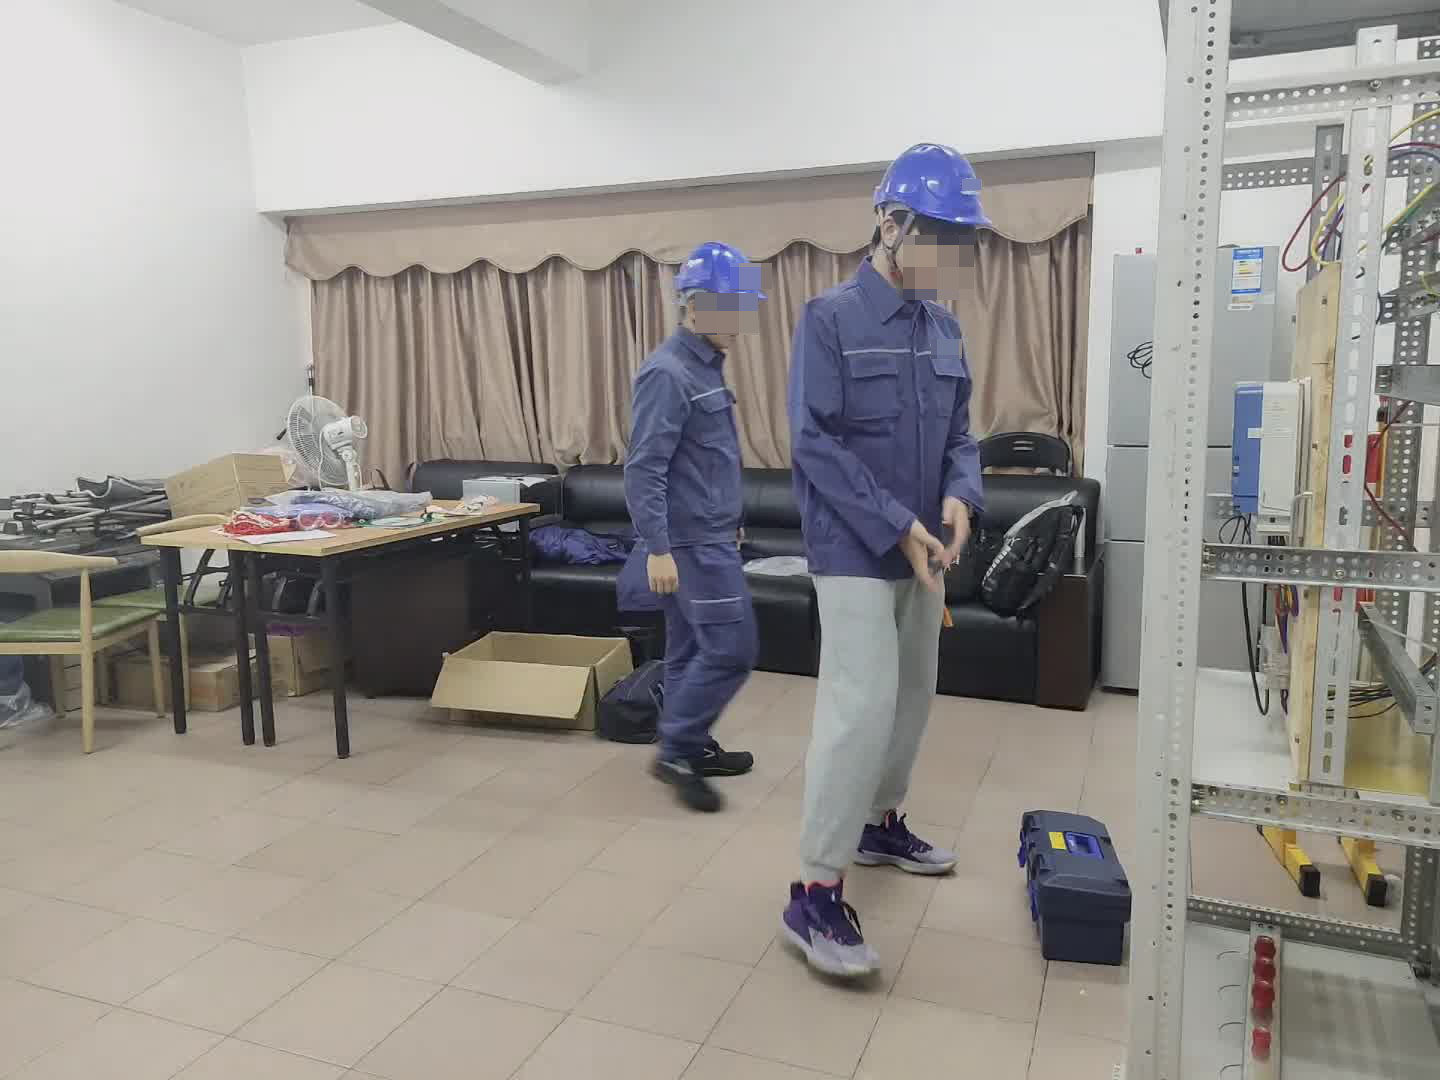downcloth: (797, 571, 948, 890)
downsuit: (626, 540, 762, 756)
halt: (870, 145, 994, 295), (669, 240, 765, 341)
hand: (905, 520, 949, 590), (935, 496, 971, 572), (647, 549, 681, 596)
inear: (873, 201, 919, 264), (682, 288, 710, 335)
person: (775, 140, 999, 994), (607, 235, 769, 816)
upsuit: (785, 268, 981, 585), (622, 326, 748, 539)
